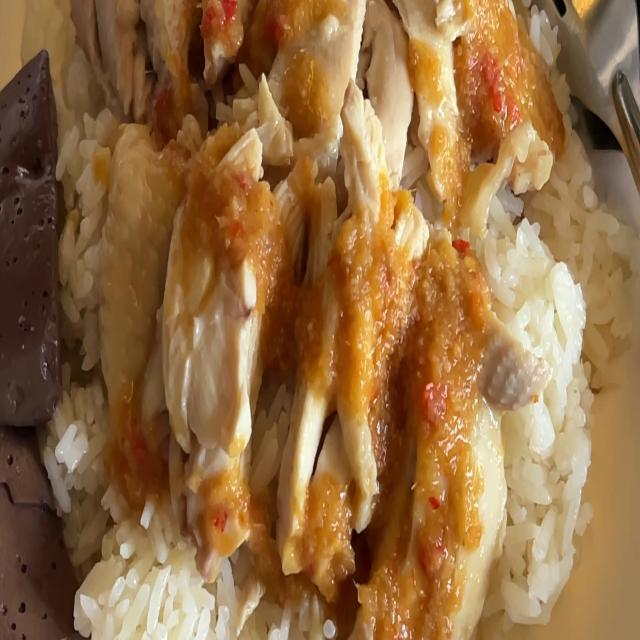boiled_chicken: (77, 0, 520, 571)
boiled_chicken_blood_jelly: (0, 52, 62, 424), (0, 416, 69, 640)
chicken_rice: (0, 0, 637, 640)
